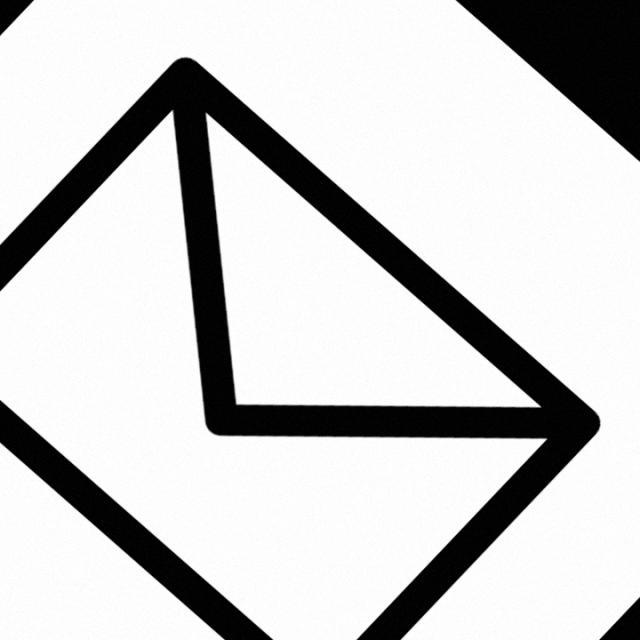letter: (5, 54, 618, 640)
